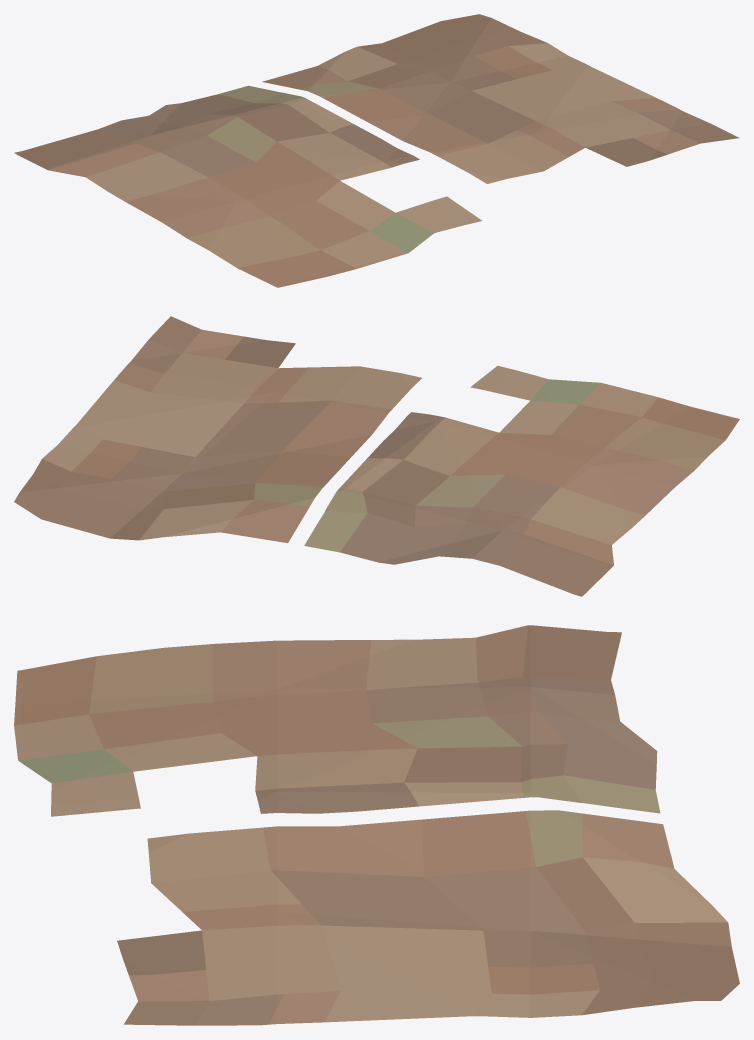
Rendered from farm_-58_-48_soil.glb.
3 views of the same model, one above another, from view 1: azimuth 30°, elevation 25°; view 2: azimuth 150°, elevation 25°; view 3: azimuth 270°, elevation 25° (orthographic). The views are drawn at different scales.
Visible parts, largest first — view 1: geometry_0; view 2: geometry_0; view 3: geometry_0.
Boxes of the visible parts, box(x1,y1,x2,y2) form: geometry_0: box(14, 14, 739, 287); geometry_0: box(14, 316, 739, 596); geometry_0: box(14, 625, 739, 1025).
Size of the model in its own units: 296 by 16.68 by 229.
